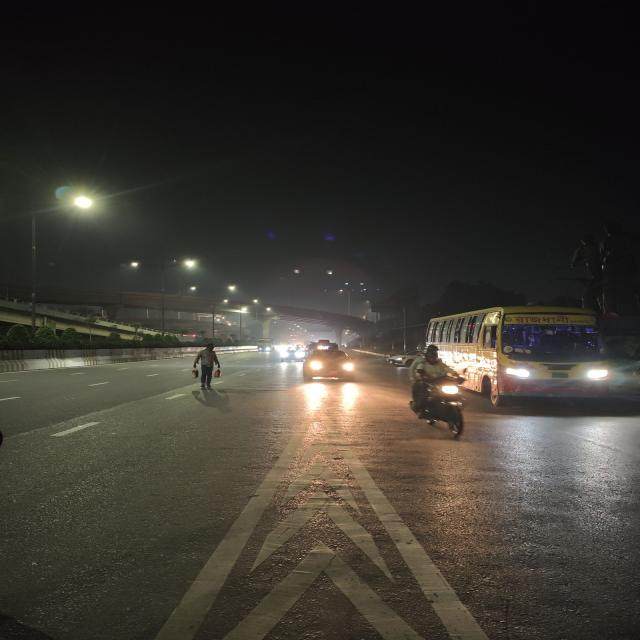bus: (421, 303, 615, 406)
car: (300, 344, 360, 385)
motorcycle: (398, 344, 474, 439)
pedestrian: (188, 342, 228, 393)
